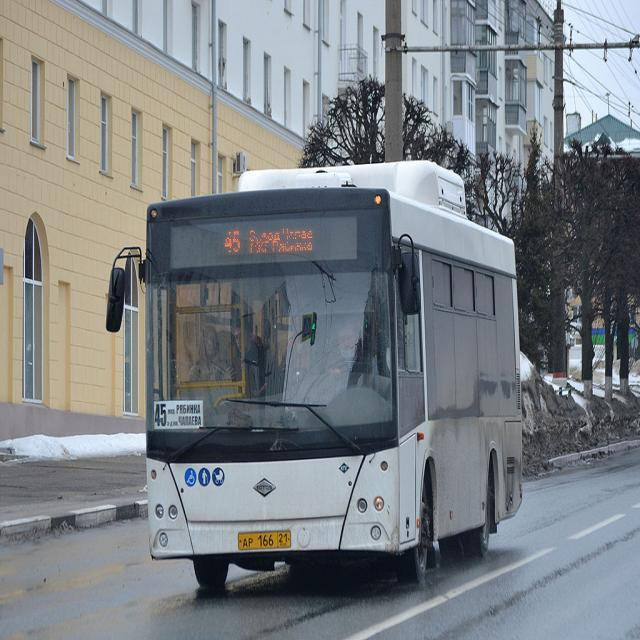number-of-bus: (153, 402, 169, 430)
